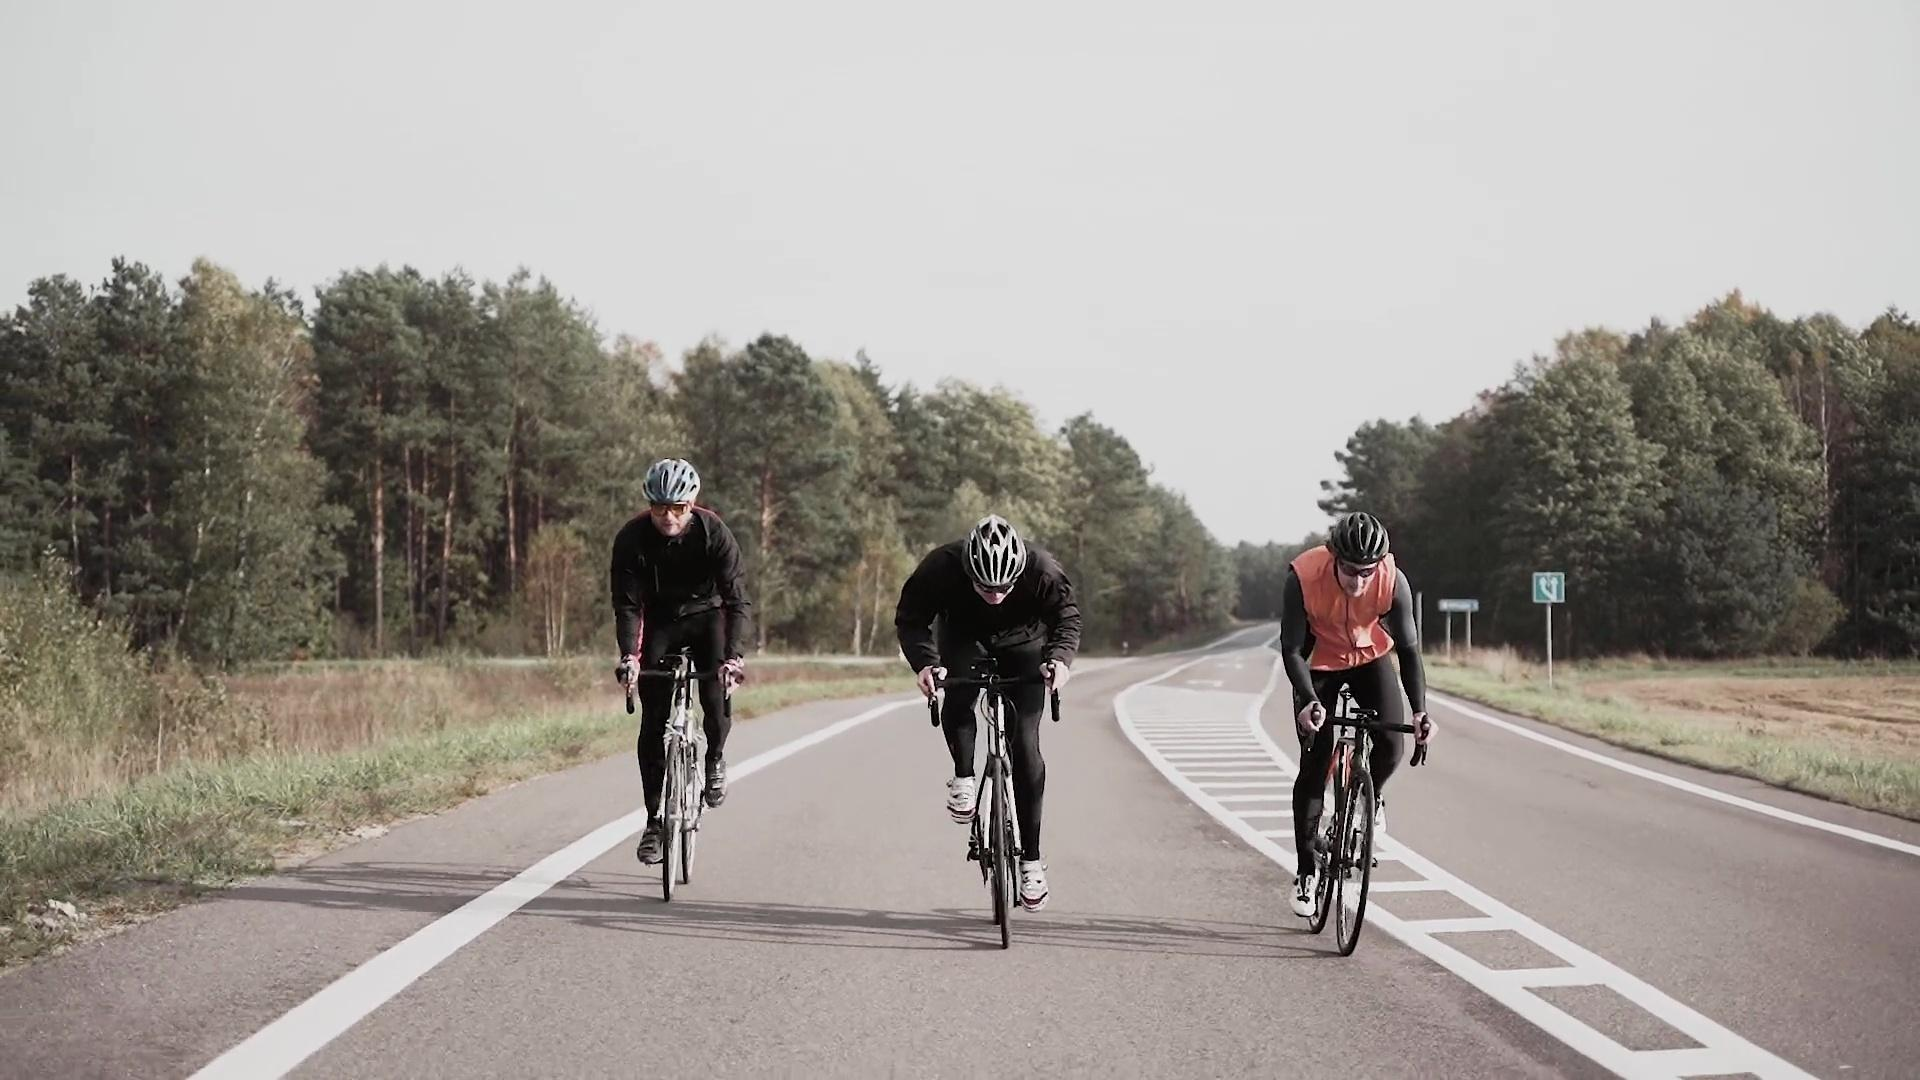cyclist: (875, 494, 1102, 964), (1255, 488, 1454, 987), (595, 450, 761, 909)
